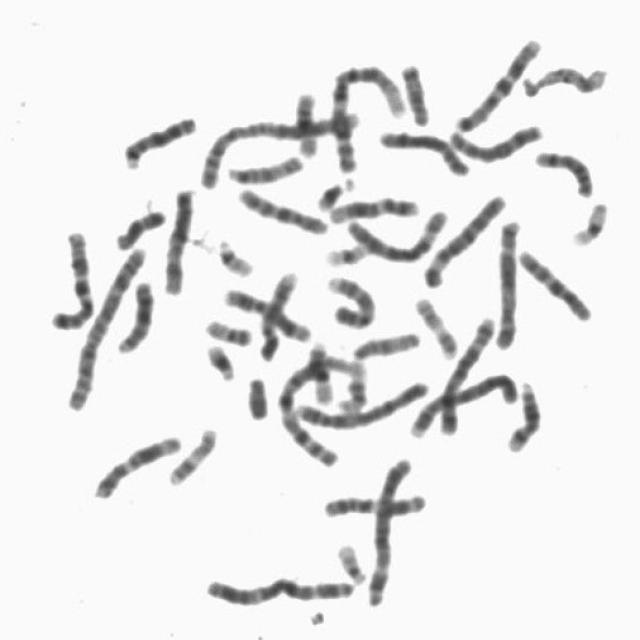A1: (271, 348, 369, 468), (324, 54, 410, 174)
A2: (59, 236, 152, 414), (194, 105, 366, 189)
A3: (362, 449, 417, 609), (198, 566, 360, 608)
B4: (402, 365, 522, 439), (287, 371, 433, 431)
B5: (432, 308, 500, 437), (490, 211, 526, 351)
C10: (512, 240, 597, 324), (232, 179, 332, 237)
C11: (218, 279, 316, 344), (316, 484, 432, 520)
C12: (87, 426, 186, 502), (321, 187, 425, 225)
C6: (418, 185, 509, 289), (342, 200, 454, 264)
C7: (451, 30, 546, 133), (44, 222, 99, 332)
C8: (373, 121, 476, 178), (443, 114, 549, 164)
C9: (253, 263, 302, 362), (322, 268, 380, 330)
D13: (118, 106, 201, 170), (112, 270, 160, 355)
D14: (530, 142, 598, 198), (501, 372, 546, 453)
D15: (220, 146, 309, 186), (347, 323, 425, 361)
E16: (288, 84, 322, 158), (302, 334, 336, 406)
E17: (162, 419, 221, 486), (410, 288, 463, 360)
E18: (110, 202, 170, 252), (396, 55, 435, 127)
F19: (566, 193, 614, 248), (319, 234, 374, 268)
F20: (200, 310, 257, 347), (562, 64, 608, 95)
G21: (311, 169, 359, 212), (200, 335, 240, 382)
G22: (211, 230, 258, 278), (331, 534, 372, 585)
X: (157, 180, 198, 296)
Y: (242, 367, 272, 421)
